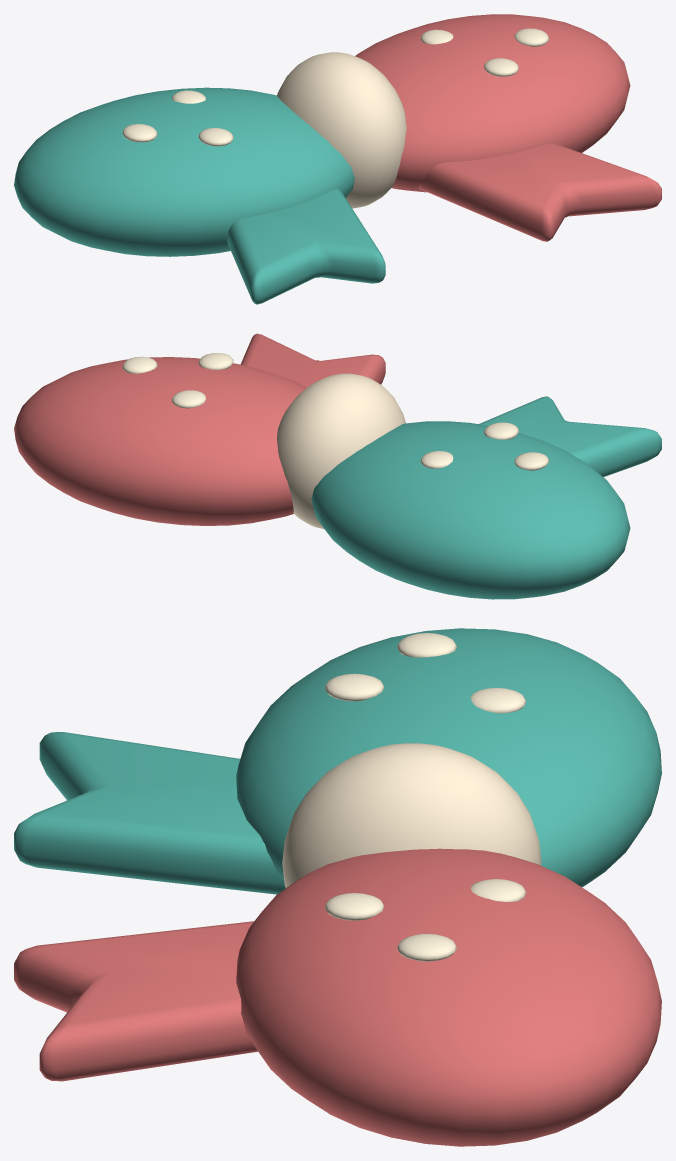
Rendered from bow.glb.
3 views of the same model, one above another, from view 1: azimuth 30°, elevation 25°; view 2: azimuth 150°, elevation 25°; view 3: azimuth 270°, elevation 25° (orthographic). The views are drawn at different scales.
Visible parts, largest first — view 1: bow_loop_left, bow_loop_right, bow_tail_right, bow_knot, bow_tail_left, bow_cream_dot.001, bow_cream_dot.005, bow_cream_dot.002, bow_cream_dot.004; view 2: bow_loop_left, bow_loop_right, bow_knot, bow_tail_left, bow_tail_right, bow_cream_dot.001, bow_cream_dot.003, bow_cream_dot.002, bow_cream_dot.005, bow_cream_dot.004, bow_cream_dot; view 3: bow_loop_right, bow_loop_left, bow_tail_left, bow_tail_right, bow_knot, bow_cream_dot.004, bow_cream_dot.005, bow_cream_dot.002, bow_cream_dot.001, bow_cream_dot, bow_cream_dot.003.
Boxes of the visible parts, x1,y1,x2,y2 form: bow_loop_left: (14,87,354,256); bow_loop_right: (355,14,630,192); bow_tail_right: (418,143,661,241); bow_knot: (277,52,406,208); bow_tail_left: (227,189,385,304); bow_cream_dot.001: (122,124,157,142); bow_cream_dot.005: (484,58,518,76); bow_cream_dot.002: (198,128,233,146); bow_cream_dot.004: (514,28,548,46); bow_loop_left: (311,421,630,599); bow_loop_right: (14,357,306,525); bow_knot: (277,373,405,528); bow_tail_left: (479,396,661,477); bow_tail_right: (240,333,385,387); bow_cream_dot.001: (514,452,548,470); bow_cream_dot.003: (172,390,205,408); bow_cream_dot.002: (484,422,518,439); bow_cream_dot.005: (198,353,233,369); bow_cream_dot.004: (122,356,157,373); bow_cream_dot: (420,451,453,468); bow_loop_right: (236,848,661,1146); bow_loop_left: (236,628,661,887); bow_tail_left: (14,732,285,894); bow_tail_right: (14,921,257,1081); bow_knot: (282,743,541,887); bow_cream_dot.004: (397,933,456,961); bow_cream_dot.005: (324,893,384,920); bow_cream_dot.002: (324,673,384,701); bow_cream_dot.001: (397,633,456,657); bow_cream_dot: (470,687,526,713); bow_cream_dot.003: (470,879,526,901).
Bounding box in the file's own units: 0.3542 × 0.085 × 0.2148.
